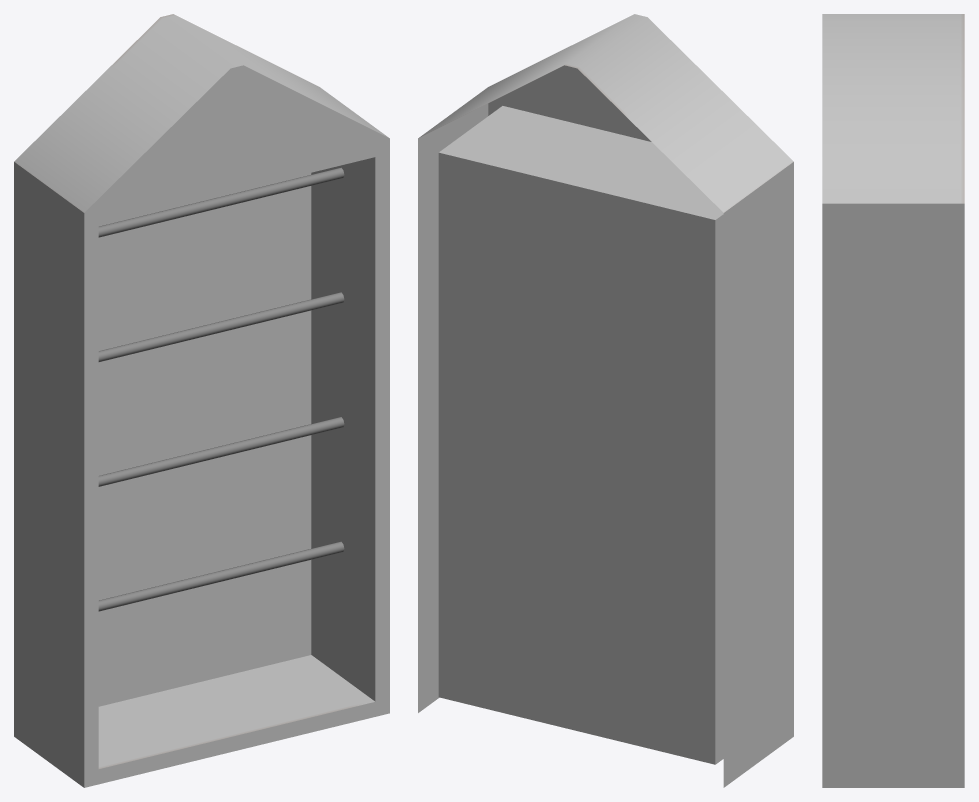
Rendered from dress_display.fbx.
The picture shows the model from 3 angles, left to right: view 1: azimuth 30°, elevation 25°; view 2: azimuth 150°, elevation 25°; view 3: azimuth 270°, elevation 25°; orthographic projection.
Parts seen in each view (by area): view 1: Cylinder.006; view 2: Cylinder.006; view 3: Cylinder.006.
Part boxes in pixels (box(x1,y1,x2,y2)): Cylinder.006: box(14, 14, 389, 787); Cylinder.006: box(418, 14, 793, 787); Cylinder.006: box(822, 14, 964, 787).
Bounding box in the file's own units: 111 × 238 × 44.22.
Materials: 1 (1 with a texture image).
